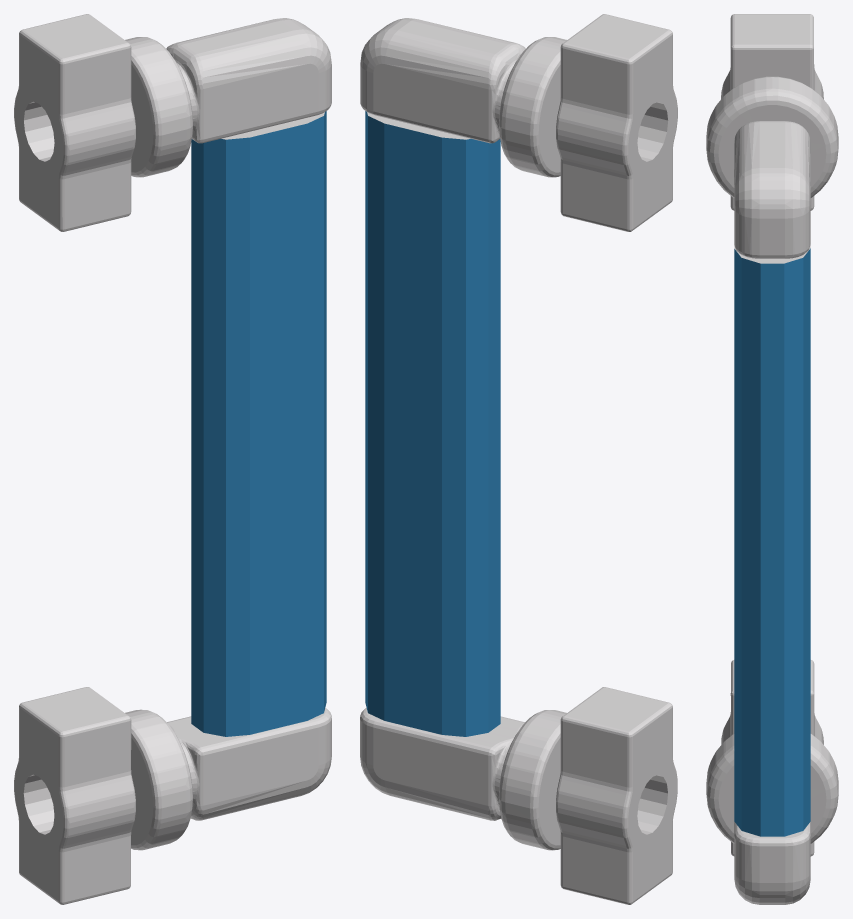
The model's file is handrail_8_5.dae.
3 views of the same model, side by side, from view 1: azimuth 30°, elevation 25°; view 2: azimuth 150°, elevation 25°; view 3: azimuth 270°, elevation 25° (orthographic). The views are drawn at different scales.
Parts seen in each view (by area): view 1: Handrail_8_5, Handrail_8_5_001; view 2: Handrail_8_5, Handrail_8_5_001; view 3: Handrail_8_5_001, Handrail_8_5.
Part boxes in pixels (x1,y1,x2,y2): Handrail_8_5: [14, 14, 331, 904]; Handrail_8_5_001: [191, 111, 326, 736]; Handrail_8_5: [360, 14, 677, 904]; Handrail_8_5_001: [365, 111, 500, 736]; Handrail_8_5_001: [734, 248, 810, 836]; Handrail_8_5: [706, 14, 838, 904].
Bounding box in the file's own units: 0.0782 × 0.0331 × 0.2235.
